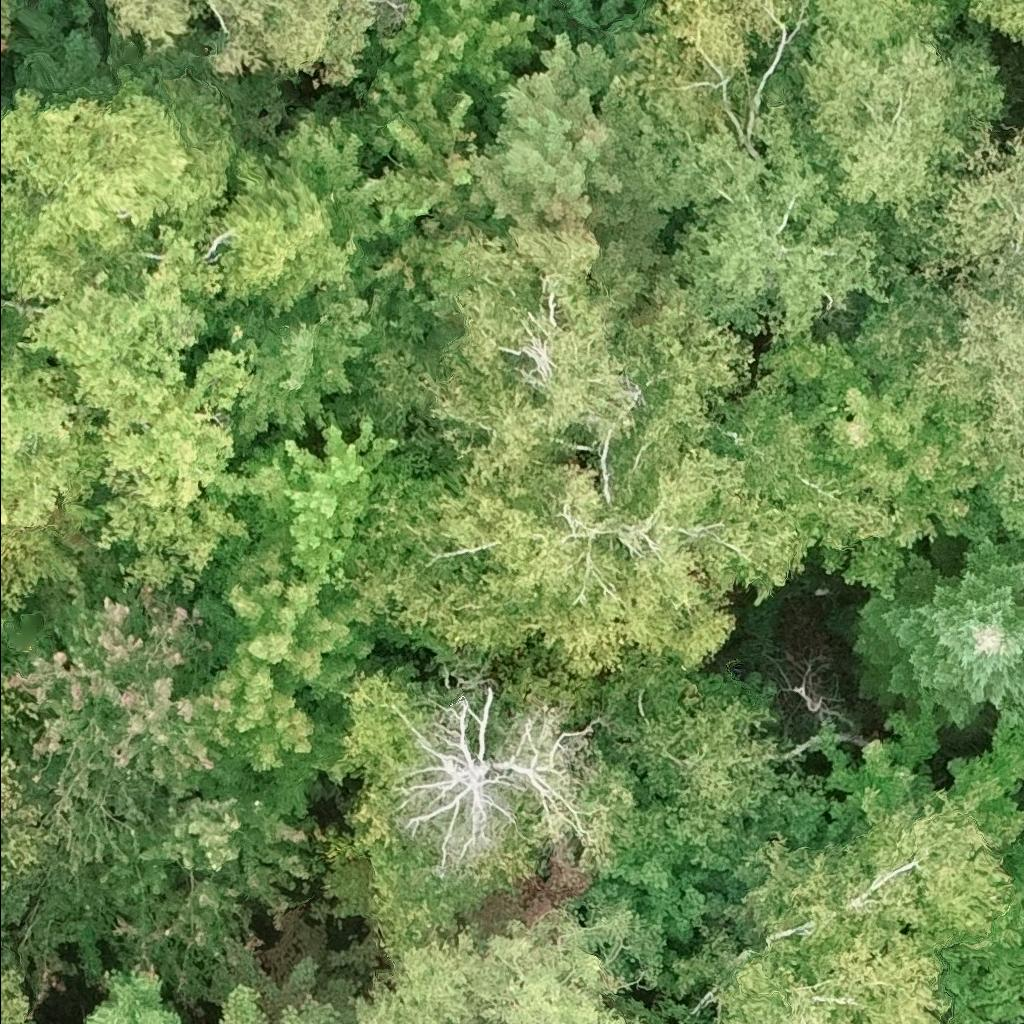crown: (0, 75, 358, 625), (572, 286, 898, 604), (337, 454, 746, 678), (756, 331, 1023, 599), (0, 588, 235, 876), (665, 75, 893, 345), (415, 227, 643, 495), (784, 0, 1008, 266), (722, 788, 1015, 970), (185, 541, 376, 818), (459, 30, 677, 241), (354, 884, 671, 1023), (916, 119, 1023, 482), (200, 415, 401, 583), (852, 537, 1023, 732), (215, 276, 380, 455), (102, 0, 405, 89), (936, 718, 1023, 1023), (607, 0, 807, 128), (347, 63, 484, 246), (360, 0, 549, 132), (713, 926, 954, 1023), (95, 497, 261, 604), (272, 93, 385, 246), (812, 710, 943, 841), (207, 922, 368, 1023), (367, 193, 480, 326), (596, 90, 707, 211), (0, 680, 60, 899), (86, 963, 189, 1023), (960, 0, 1023, 45), (0, 957, 39, 1023), (807, 0, 812, 3)
